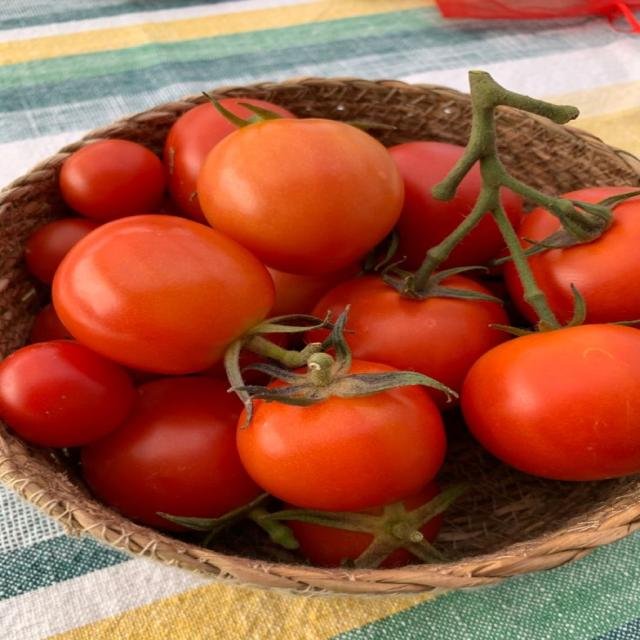tomato: (53, 215, 273, 374), (198, 119, 403, 274), (461, 325, 639, 480), (81, 377, 260, 530), (238, 386, 446, 511), (313, 276, 508, 392), (0, 340, 133, 447), (528, 197, 639, 324), (389, 141, 481, 270), (164, 103, 237, 222), (60, 139, 165, 221), (25, 218, 99, 284), (268, 263, 360, 316), (287, 520, 373, 566), (30, 303, 72, 343)
